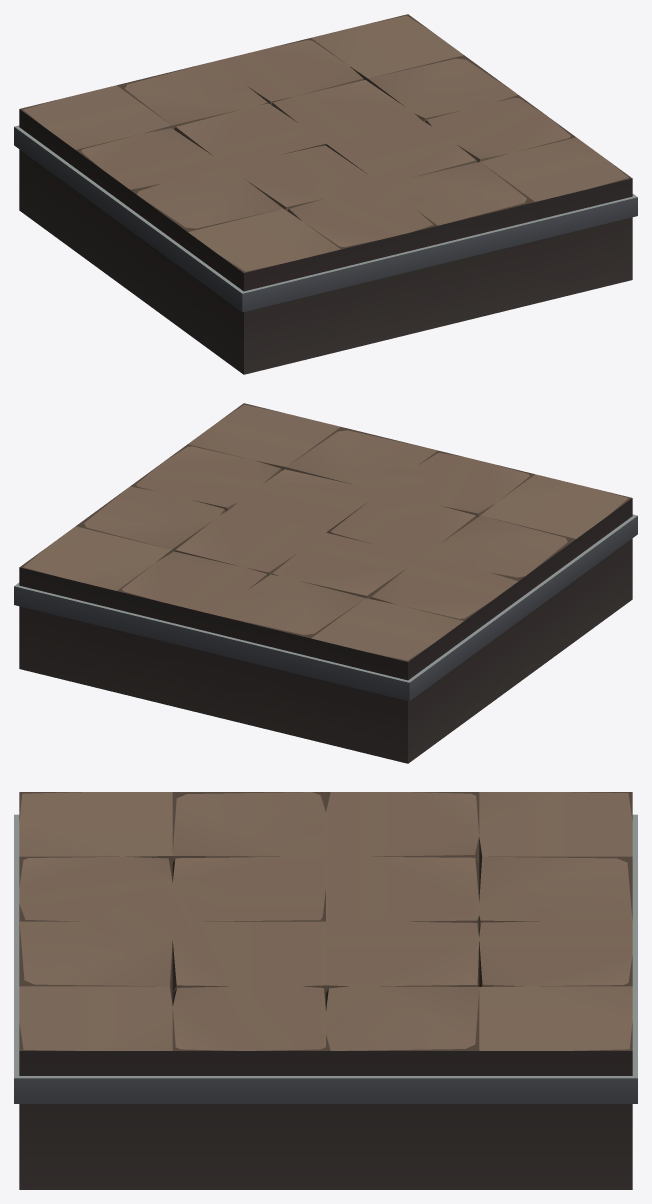
Rendered from TSP_Deck_02B.fbx.
3 renders of one model, top to bottom at view 1: azimuth 30°, elevation 25°; view 2: azimuth 150°, elevation 25°; view 3: azimuth 270°, elevation 25°, orthographic. The views are drawn at different scales.
Parts seen in each view (by area): view 1: TSP_Deck_02B; view 2: TSP_Deck_02B; view 3: TSP_Deck_02B.
Boxes of the visible parts, x1,y1,x2,y2 form: TSP_Deck_02B: (14,14,637,374); TSP_Deck_02B: (14,403,637,763); TSP_Deck_02B: (14,792,637,1189).
Bounding box in the file's own units: 4.07 × 1 × 4.07.
